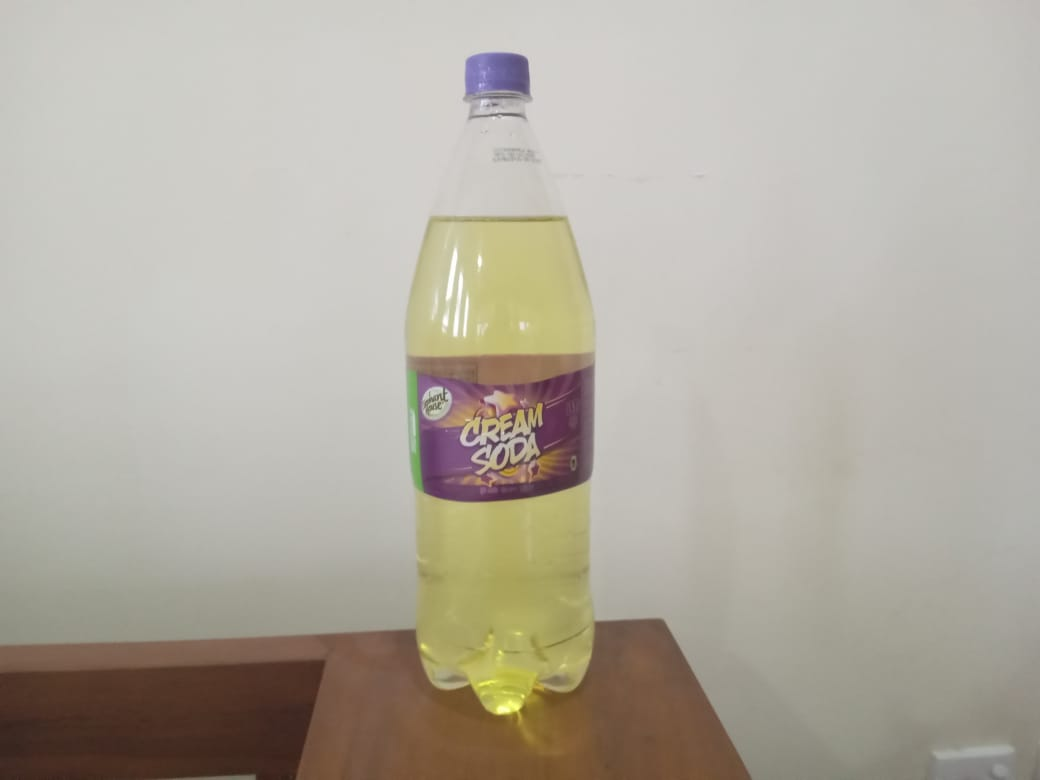L: (395, 42, 608, 720)
